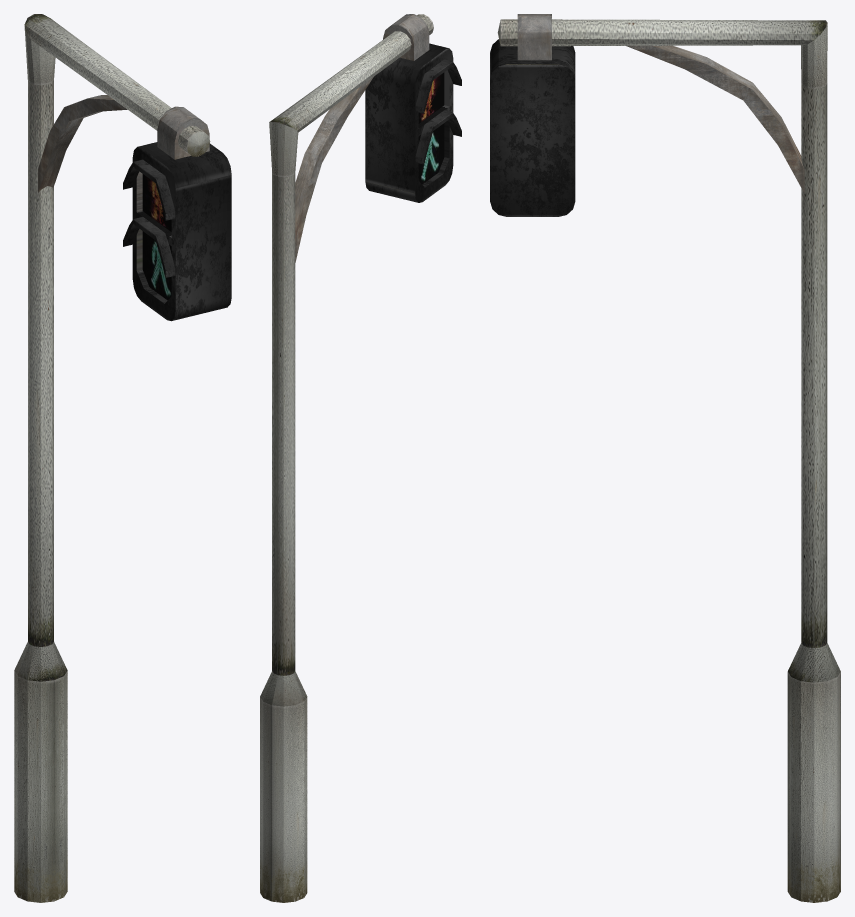
Rendered from TrafficLight01.fbx.
The picture shows the model from 3 angles, left to right: view 1: azimuth 30°, elevation 25°; view 2: azimuth 150°, elevation 25°; view 3: azimuth 270°, elevation 25°; orthographic projection. The views are drawn at different scales.
Parts seen in each view (by area): view 1: TrafficLight01; view 2: TrafficLight01; view 3: TrafficLight01.
Part boxes in pixels (bbox=[...]): TrafficLight01: bbox=[14, 14, 231, 902]; TrafficLight01: bbox=[260, 14, 461, 902]; TrafficLight01: bbox=[490, 14, 840, 902].
Size of the model in its own units: 8.53 by 109 by 39.4.
